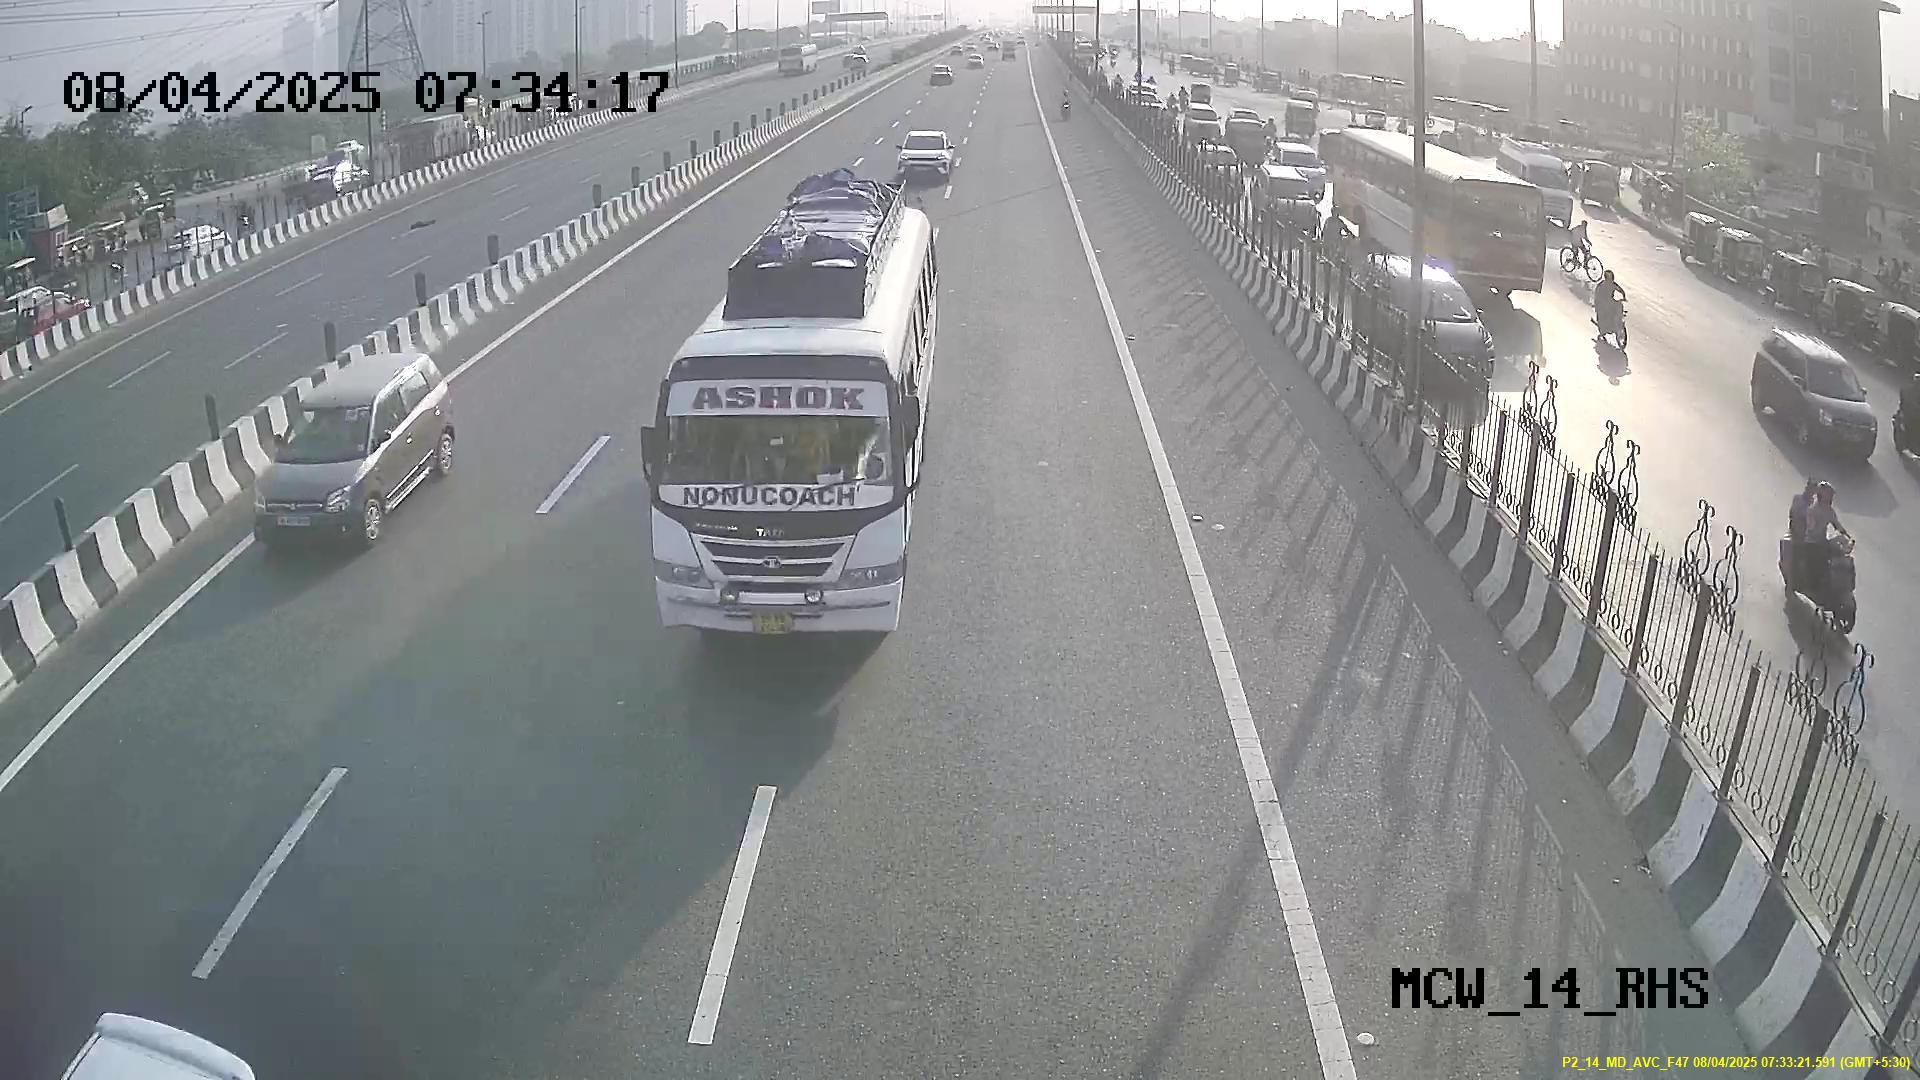bus: (638, 280, 927, 650)
car: (244, 369, 418, 551)
